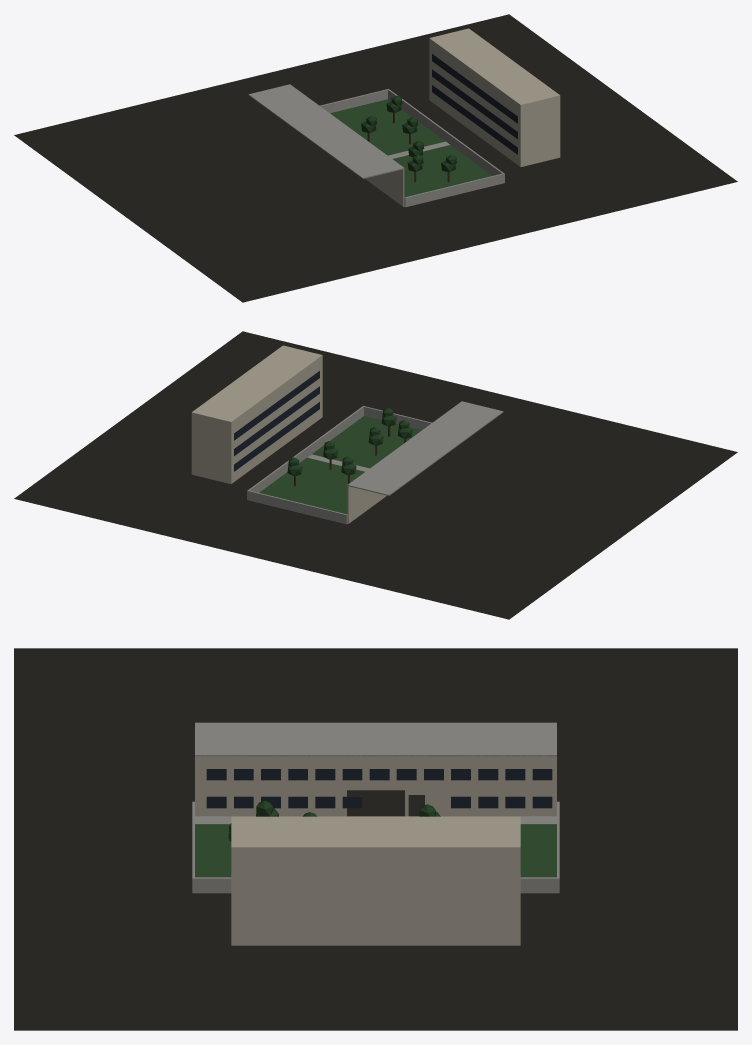
File: courtyard.glb
3 renders of one model, top to bottom at view 1: azimuth 30°, elevation 25°; view 2: azimuth 150°, elevation 25°; view 3: azimuth 270°, elevation 25°, orthographic. The views are drawn at different scales.
Parts seen in each view (by area): view 1: Ground, Walls, SchoolFacade, Trees; view 2: Ground, Walls, SchoolFacade, Trees; view 3: Ground, Walls, SchoolFacade.
Boxes of the visible parts, left/top/right/bottom form: Ground: left=14, top=14, right=737, bottom=302; Walls: left=320, top=28, right=560, bottom=207; SchoolFacade: left=248, top=84, right=404, bottom=206; Trees: left=361, top=95, right=456, bottom=182; Ground: left=14, top=331, right=737, bottom=619; Walls: left=191, top=345, right=431, bottom=524; SchoolFacade: left=347, top=401, right=503, bottom=523; Trees: left=287, top=408, right=412, bottom=486; Ground: left=14, top=648, right=737, bottom=1030; Walls: left=192, top=801, right=559, bottom=945; SchoolFacade: left=195, top=722, right=556, bottom=816.
Bounding box in the file's own units: 100 × 12.12 × 80.
